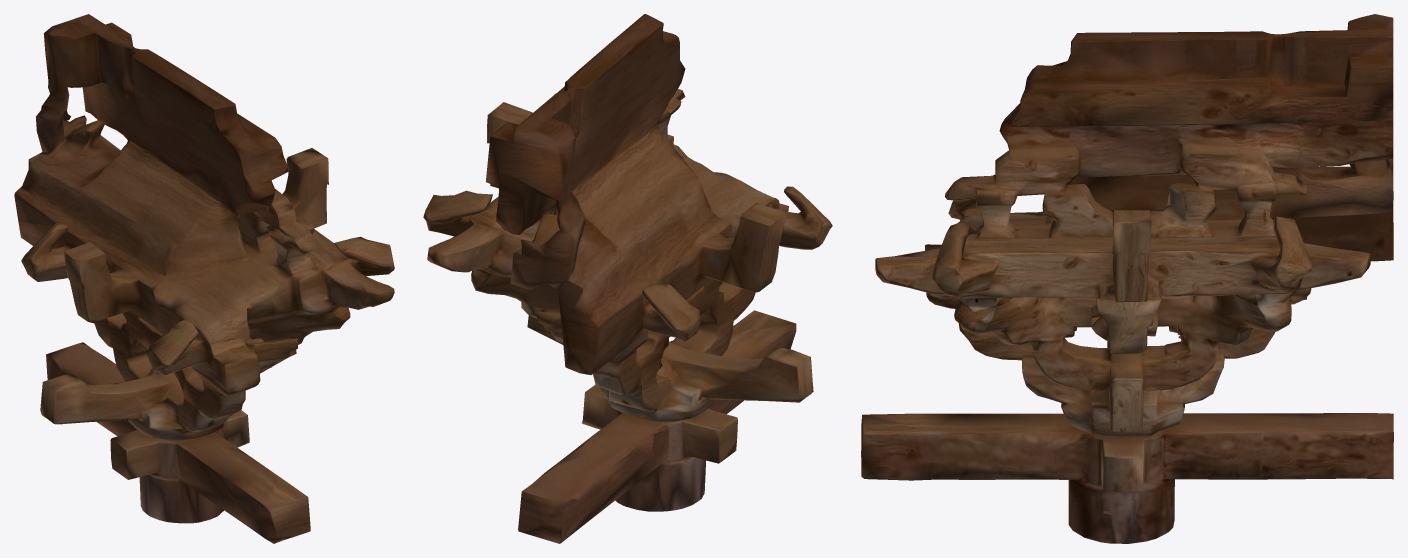
File: dougong.glb
3 views of the same model, side by side, from view 1: azimuth 30°, elevation 25°; view 2: azimuth 150°, elevation 25°; view 3: azimuth 270°, elevation 25° (orthographic). The views are drawn at different scales.
Parts seen in each view (by area): view 1: node_62a643c7-dfd2-403c-a81d-047a7a94afc0; view 2: node_62a643c7-dfd2-403c-a81d-047a7a94afc0; view 3: node_62a643c7-dfd2-403c-a81d-047a7a94afc0.
Boxes of the visible parts, <box> form: node_62a643c7-dfd2-403c-a81d-047a7a94afc0: <box>14,14,394,543</box>; node_62a643c7-dfd2-403c-a81d-047a7a94afc0: <box>423,14,832,543</box>; node_62a643c7-dfd2-403c-a81d-047a7a94afc0: <box>861,14,1393,543</box>.
Bounding box in the file's own units: 0.7113 × 1 × 0.9653.
1 material, 1 textured.
